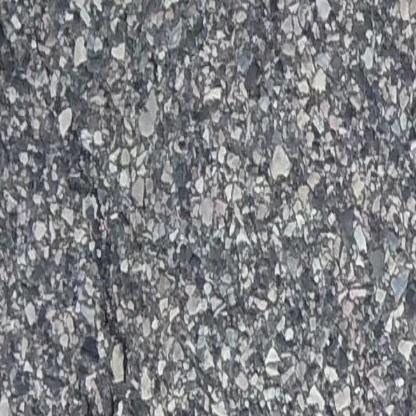Cracks: (89, 344, 130, 416), (110, 260, 121, 343)
